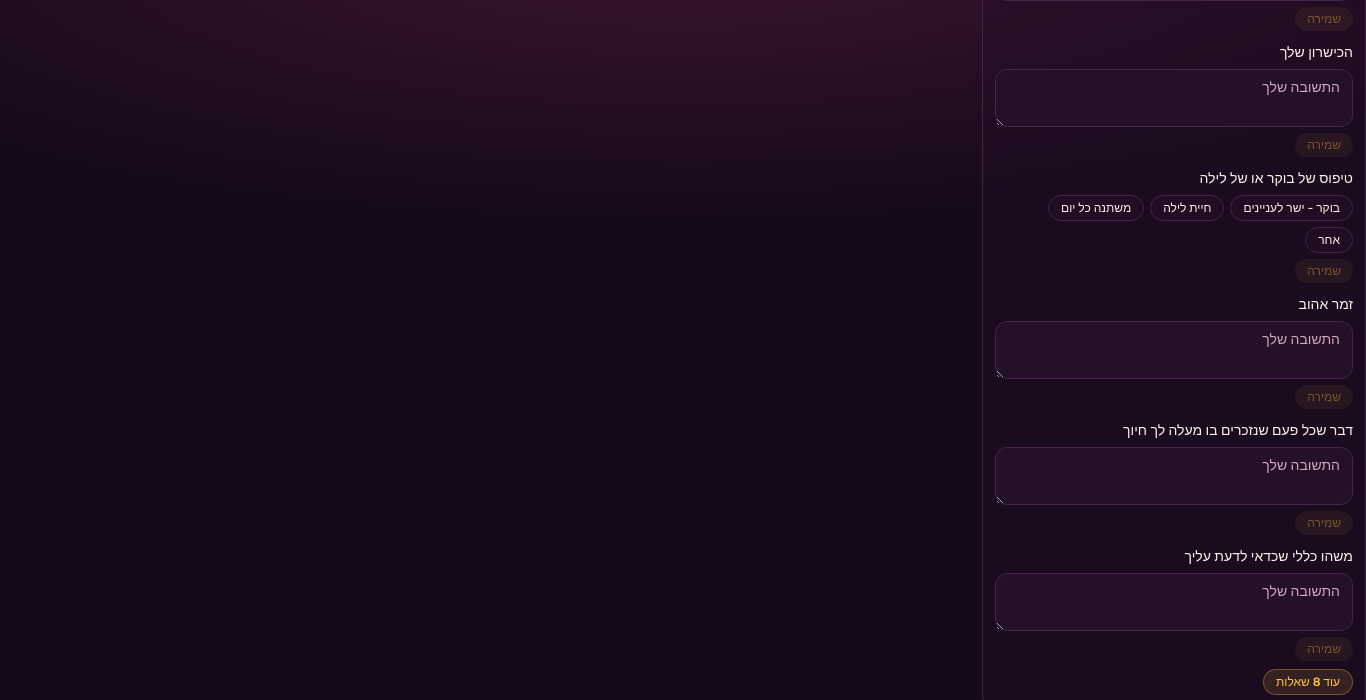
Test: GuidedQuestions - showing more without overwhelming the lobby › eventually reveals every built-in once "more" is tapped enough times
(page scrolled)
Click the button "עוד 8 שאלות": (1308, 682) x1=1263 y1=669 x2=1353 y2=695
(page scrolled)
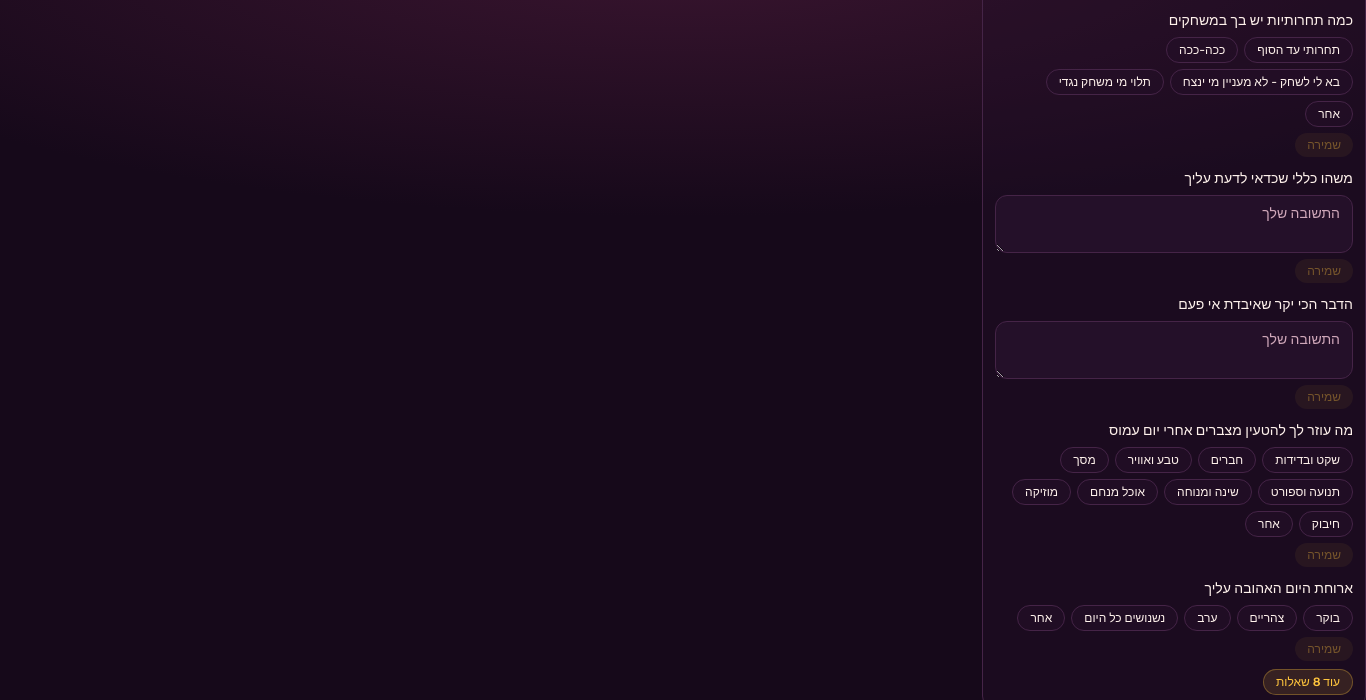
Click the button "עוד 8 שאלות": (1308, 682) x1=1263 y1=669 x2=1353 y2=695
(page scrolled)
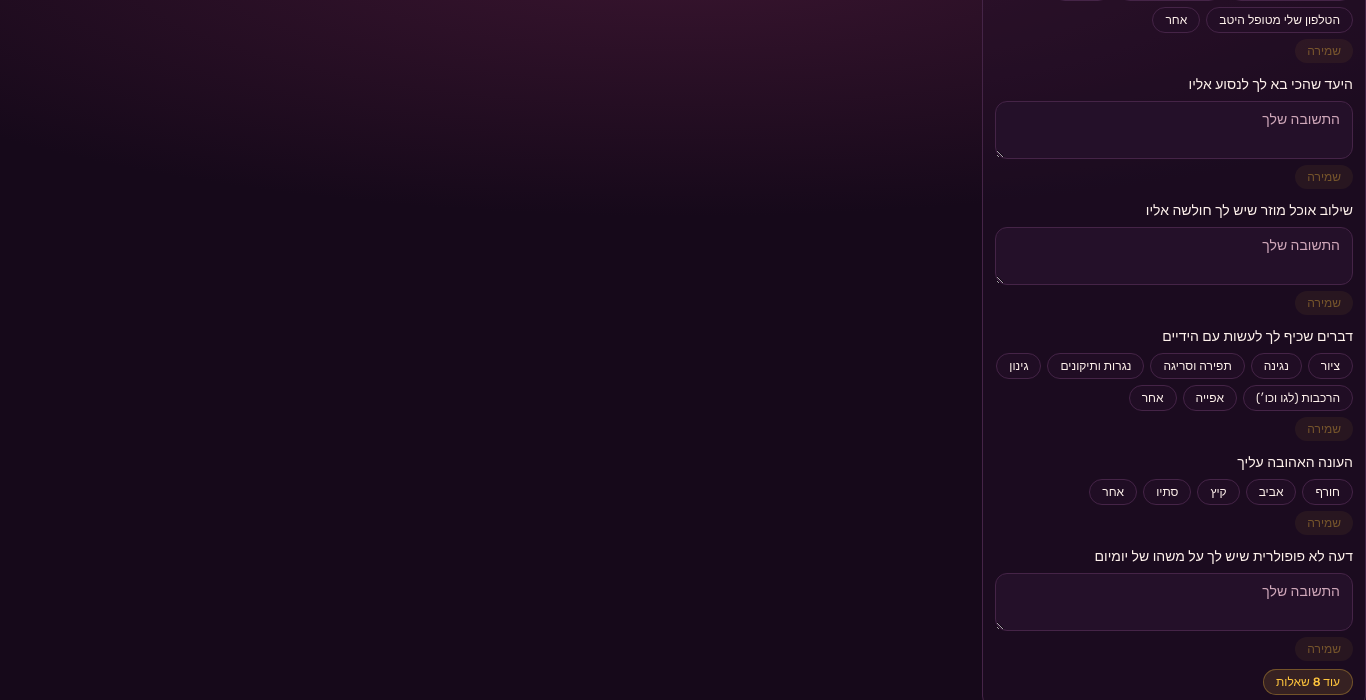
Click the button "עוד 8 שאלות": (1308, 682) x1=1263 y1=669 x2=1353 y2=695
(page scrolled)
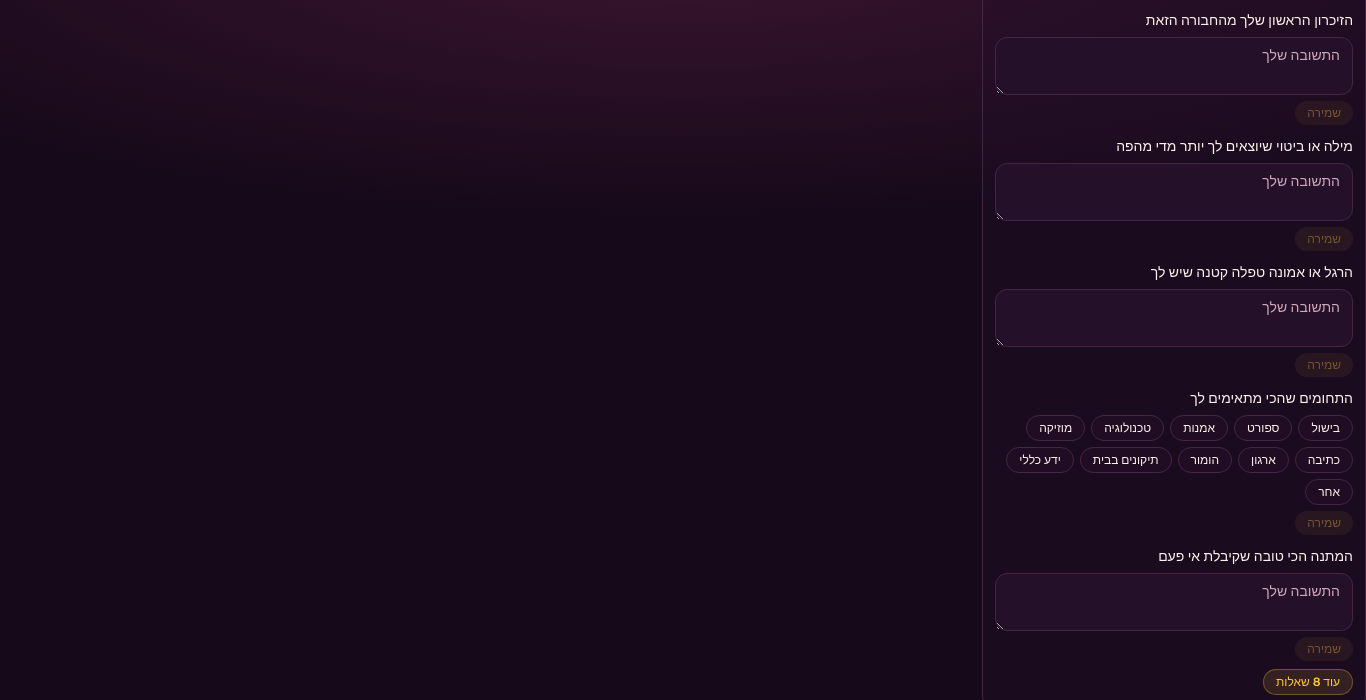
Click the button "עוד 8 שאלות": (1308, 682) x1=1263 y1=669 x2=1353 y2=695
(page scrolled)
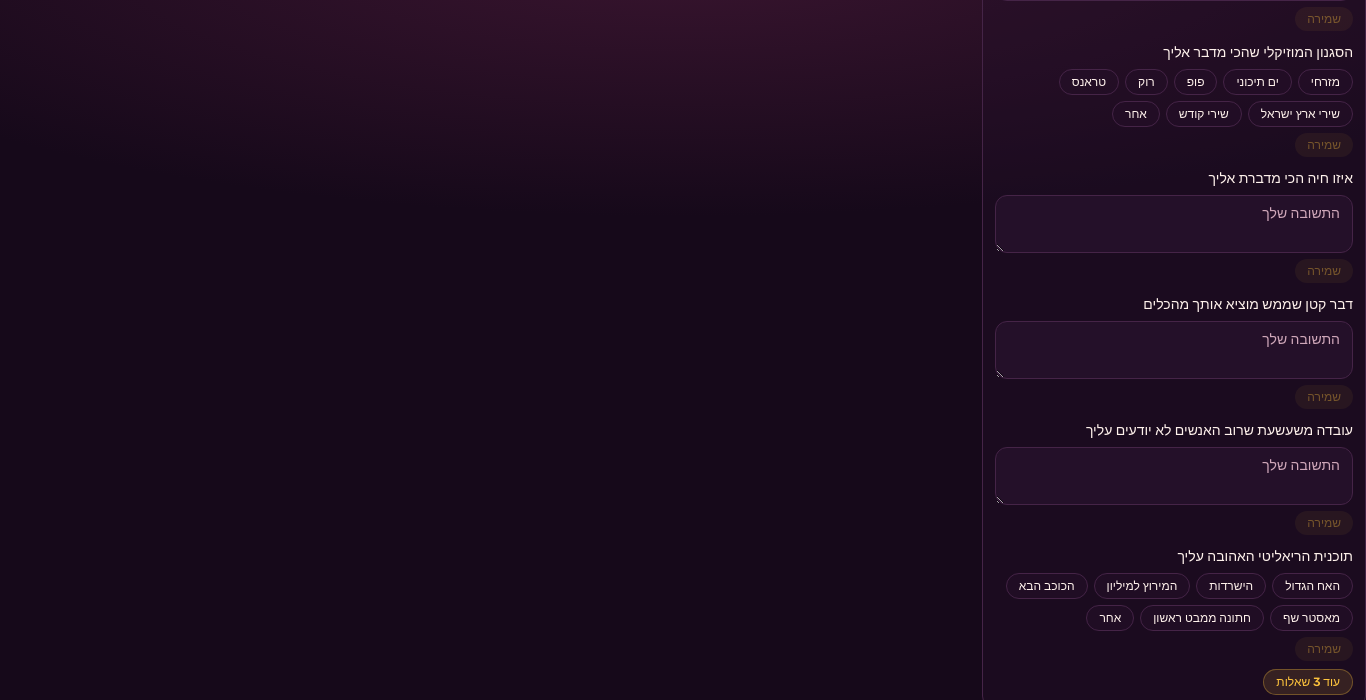
Click the button "עוד 3 שאלות": (1308, 682) x1=1263 y1=669 x2=1353 y2=695
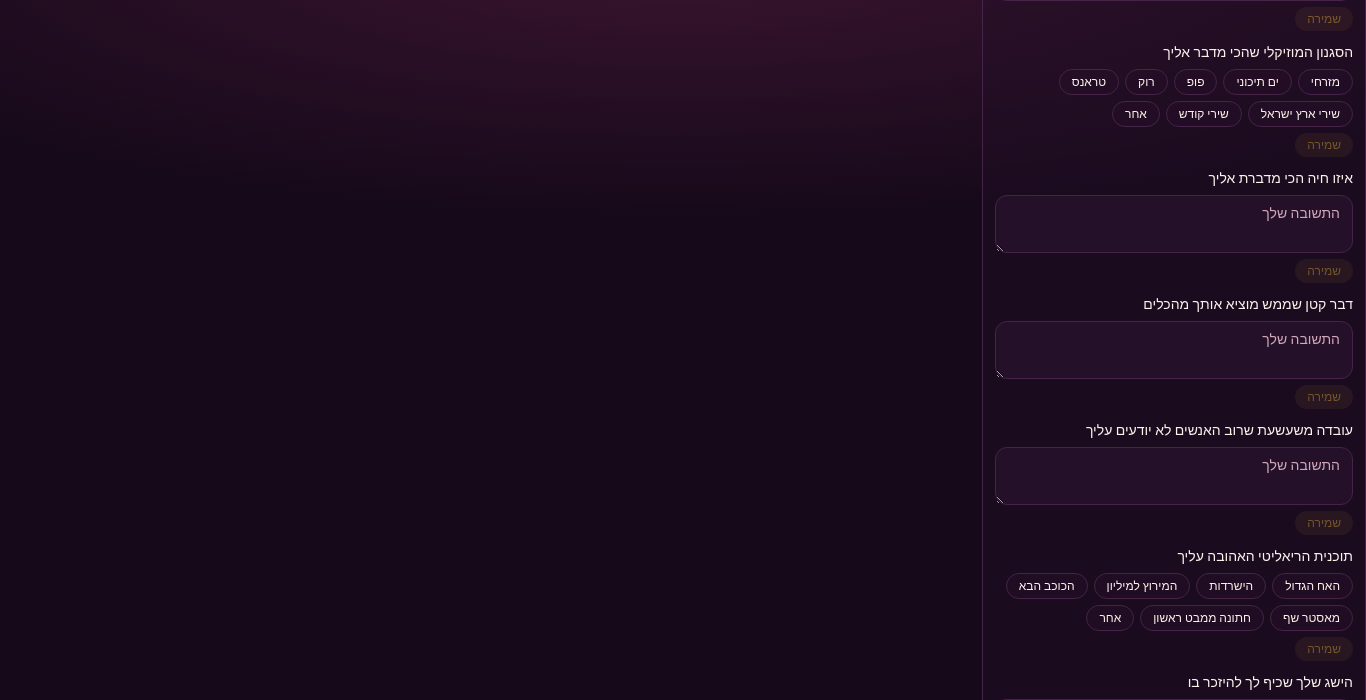
Now the button "עוד 3 שאלות" is gone
